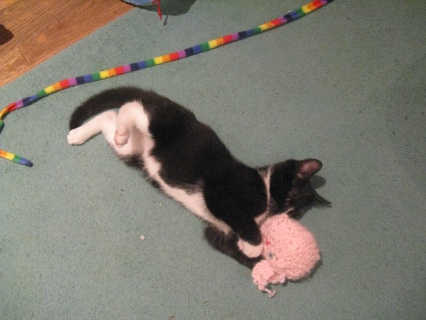Cat: (67, 82, 332, 270)
